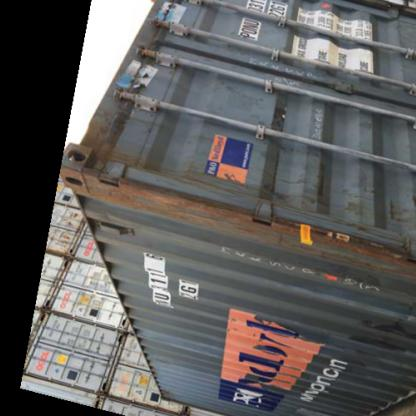Damage: (80, 169, 160, 210), (257, 177, 320, 208), (78, 113, 113, 160), (217, 314, 254, 342), (91, 214, 113, 233)
